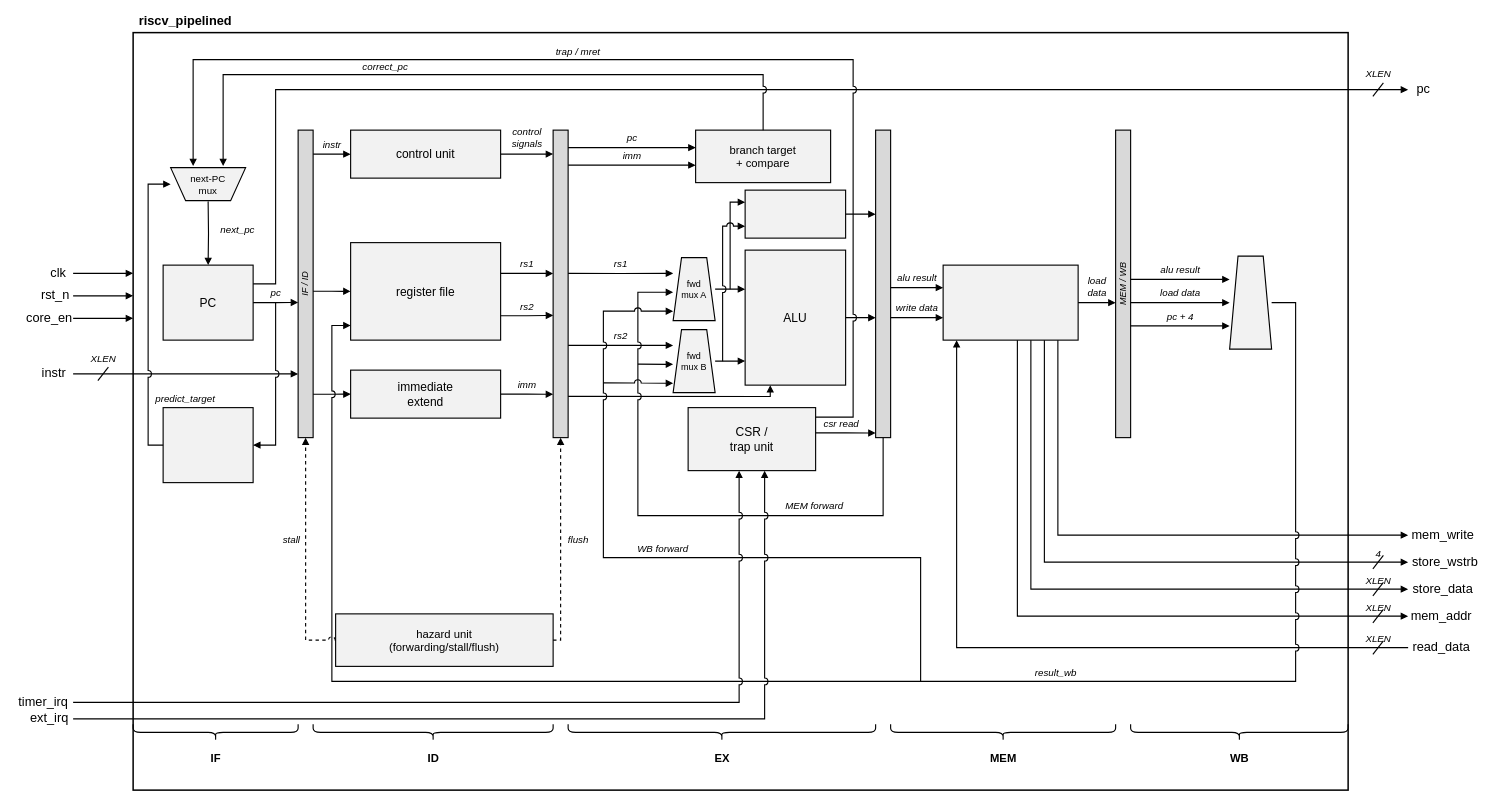
This 1494x803 diagram has some shape labels left out. The centre of each missing label's shape, as x and y in pixels:
"EX / MEM" goes at (883,283).
"gshare + BTB" goes at (207,445).
"ID / EX" goes at (560,283).
"memory access byte lanes" goes at (1010,302).
"muldiv" goes at (795,213).
"result mux" goes at (1250,302).
